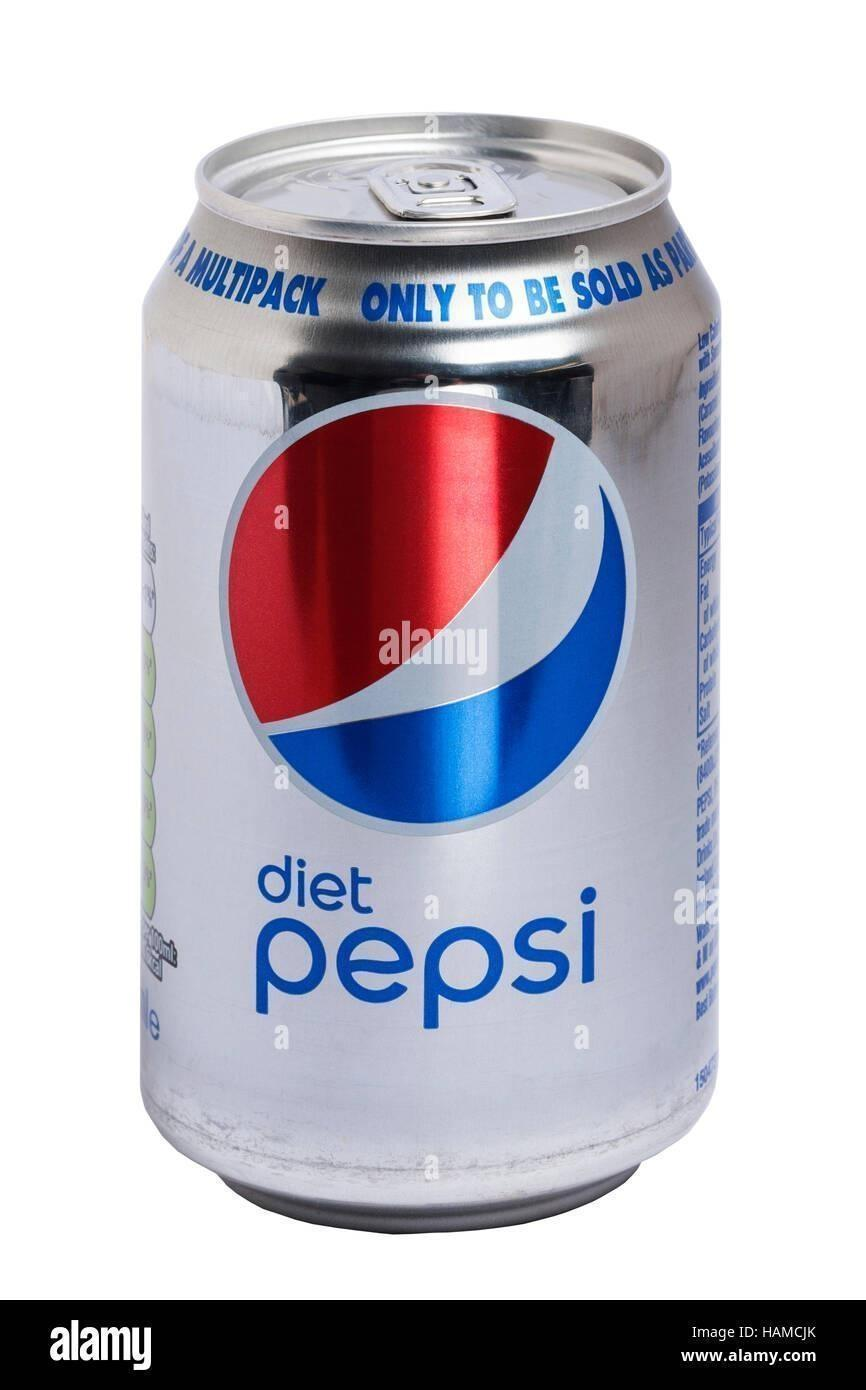tin can: (133, 107, 728, 1235)
